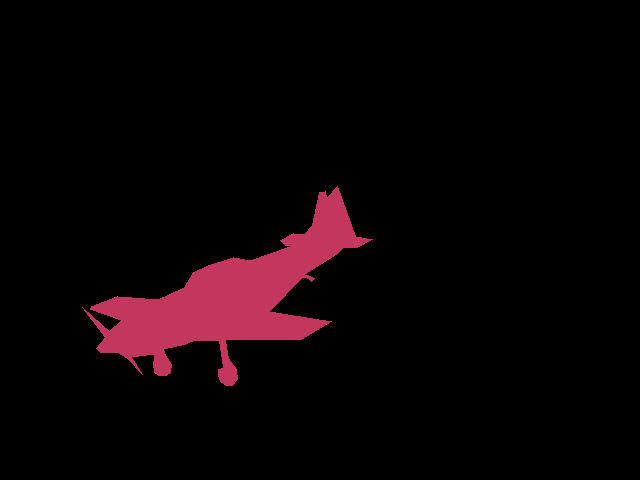Airplane: (82, 186, 372, 385)
